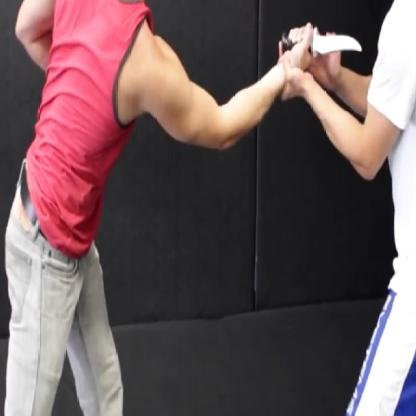knife: (271, 5, 371, 67)
